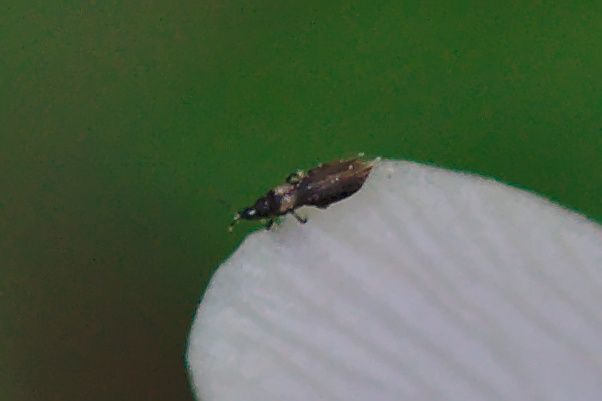Thripidae: (222, 156, 379, 242)
